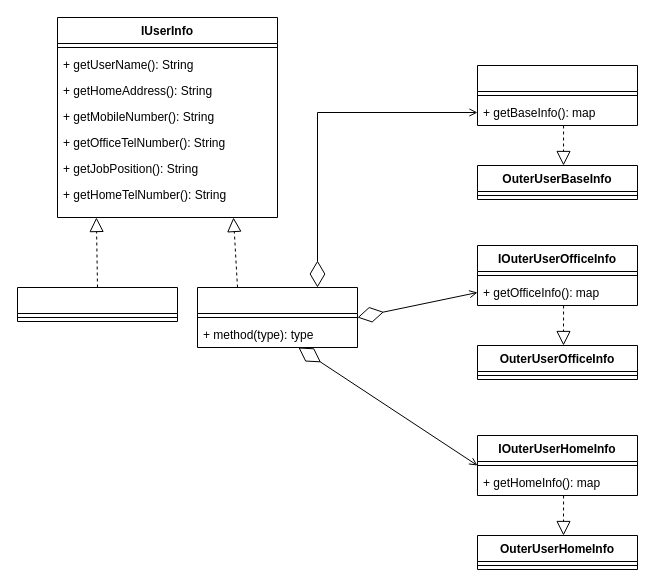
Image size: 655x587. Some labels were removed from this diagram. Here are the shapes that lost their labels. From the top down, the box of each, then its label:
(476, 64, 638, 126): IOuterUserBaseInfo
(16, 286, 178, 322): UserInfo
(196, 286, 358, 348): OuterUserInfo
